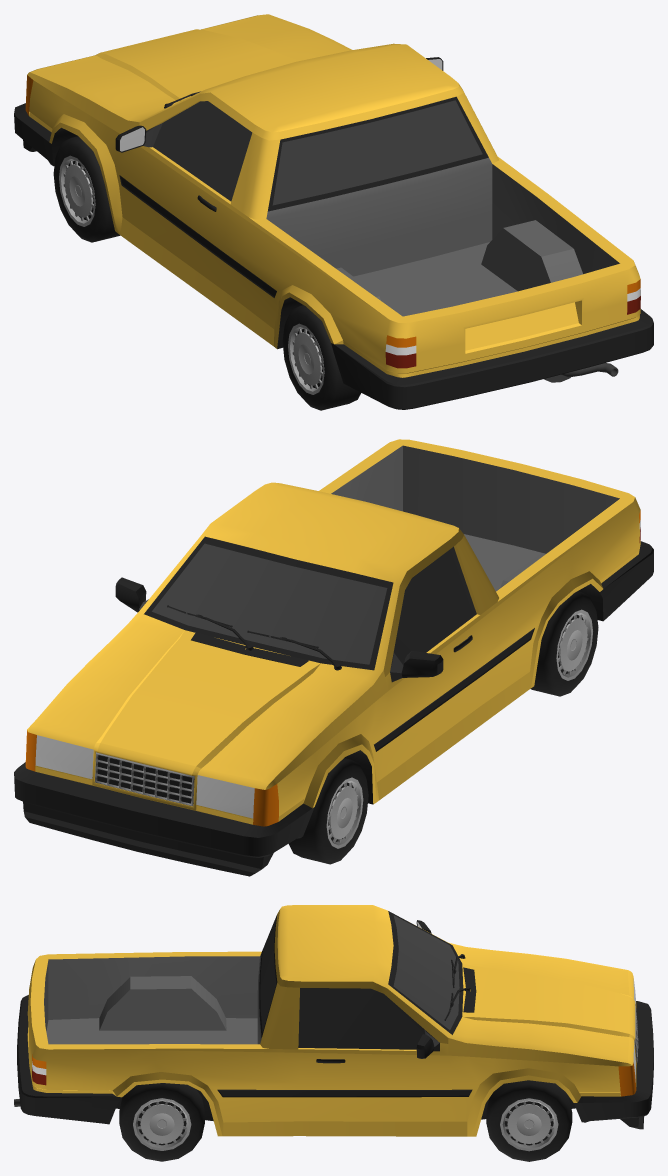
The model's file is m8_pickup_mustard.glb.
3 views of the same model, one above another, from view 1: azimuth 30°, elevation 25°; view 2: azimuth 150°, elevation 25°; view 3: azimuth 270°, elevation 25° (orthographic). The views are drawn at different scales.
Visible parts, largest first — view 1: Body, Wheel_RL, Wheel_FL, Interior; view 2: Body, Wheel_FL, Wheel_RL, Interior; view 3: Body, Wheel_FR, Wheel_RR.
Part boxes in pixels (box(x1,y1,x2,y2)): Body: box(14, 14, 653, 409); Wheel_RL: box(282, 305, 360, 410); Wheel_FL: box(53, 136, 120, 242); Interior: box(164, 91, 618, 382); Body: box(14, 439, 653, 876); Wheel_FL: box(289, 758, 368, 864); Wheel_RL: box(530, 591, 598, 696); Interior: box(167, 605, 341, 670); Body: box(17, 905, 653, 1136); Wheel_FR: box(486, 1080, 572, 1161); Wheel_RR: box(119, 1083, 204, 1161).
Size of the model in its own units: 2.13 by 1.34 by 4.54.
1 material, 1 textured.
